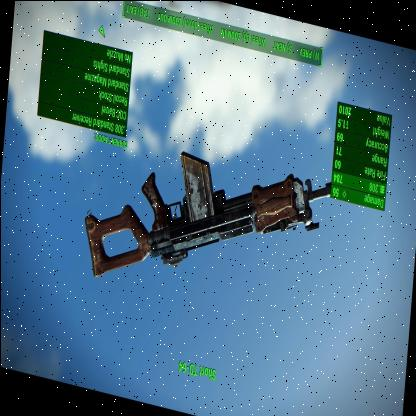rifle: (78, 119, 342, 342)
